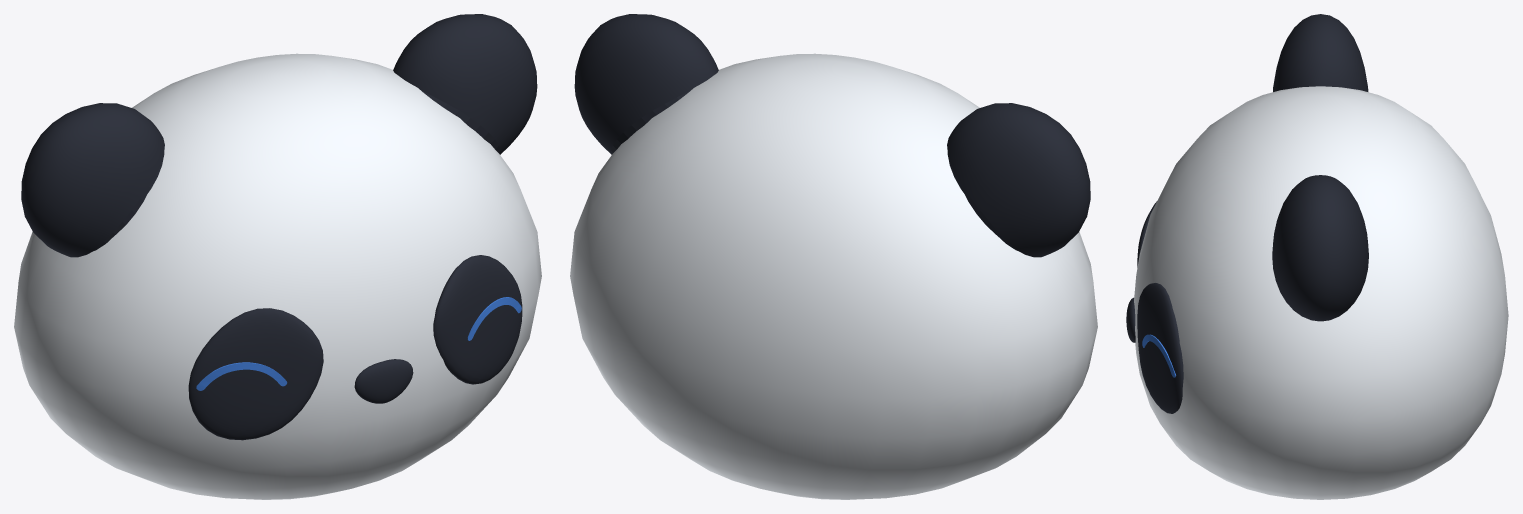
The model's file is P_david_27.glb.
3 views of the same model, side by side, from view 1: azimuth 30°, elevation 25°; view 2: azimuth 150°, elevation 25°; view 3: azimuth 270°, elevation 25° (orthographic). The views are drawn at different scales.
Visible parts, largest first — view 1: P_david_27; view 2: P_david_27; view 3: P_david_27.
Boxes of the visible parts, x1=… form: P_david_27: x1=14, y1=14, x2=541, y2=499; P_david_27: x1=570, y1=14, x2=1097, y2=499; P_david_27: x1=1126, y1=14, x2=1508, y2=499.
Bounding box in the file's own units: 0.4217 × 0.3188 × 0.3058.
1 material, 1 textured.
